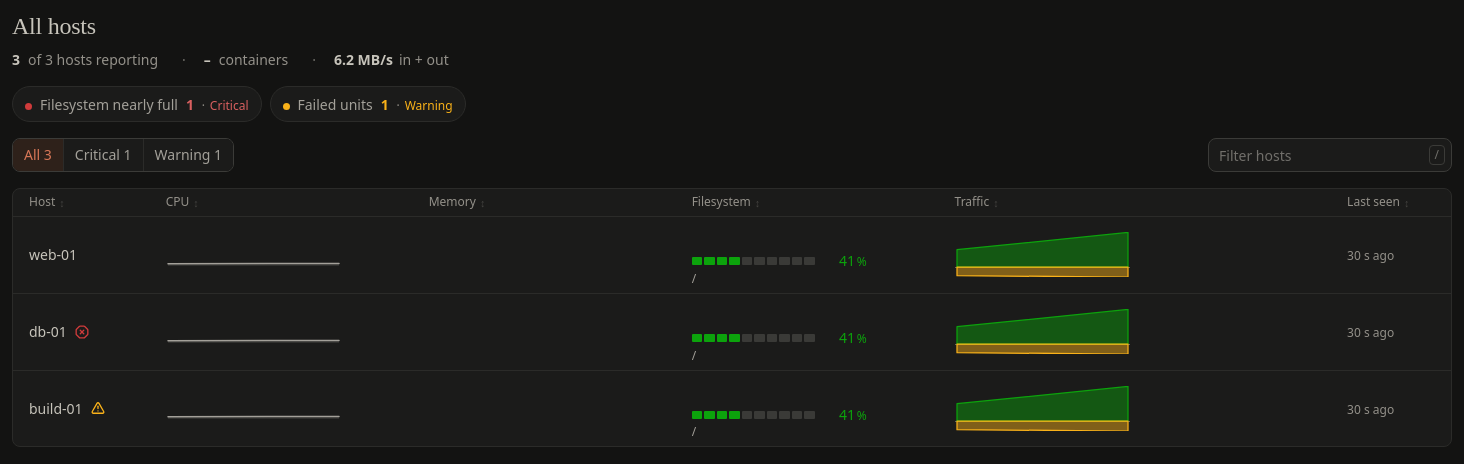
Test: FleetPage data fetching › splits the troubled hosts into critical and warning, and filters by either
Expected: the button "Critical 1" is shown, left=63, top=139, right=143, bottom=171
Click the button "Warning 1". click: (188, 155)
box: left=143, top=139, right=233, bottom=171
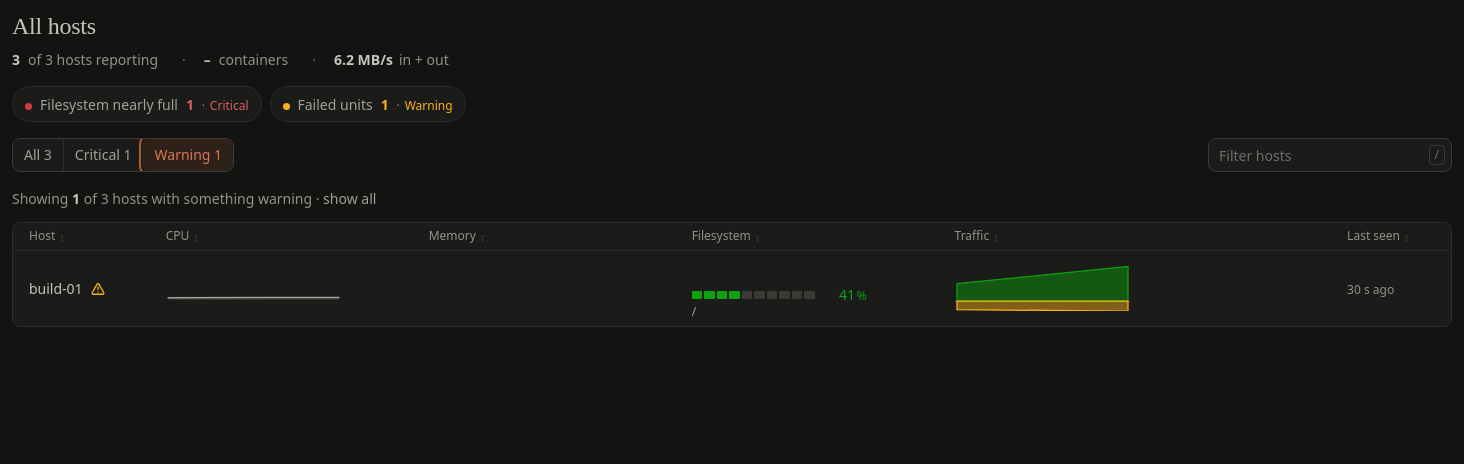
Expected: the link "build-01" is shown, left=29, top=278, right=83, bottom=299
Expected: the link "db-01" is gone
